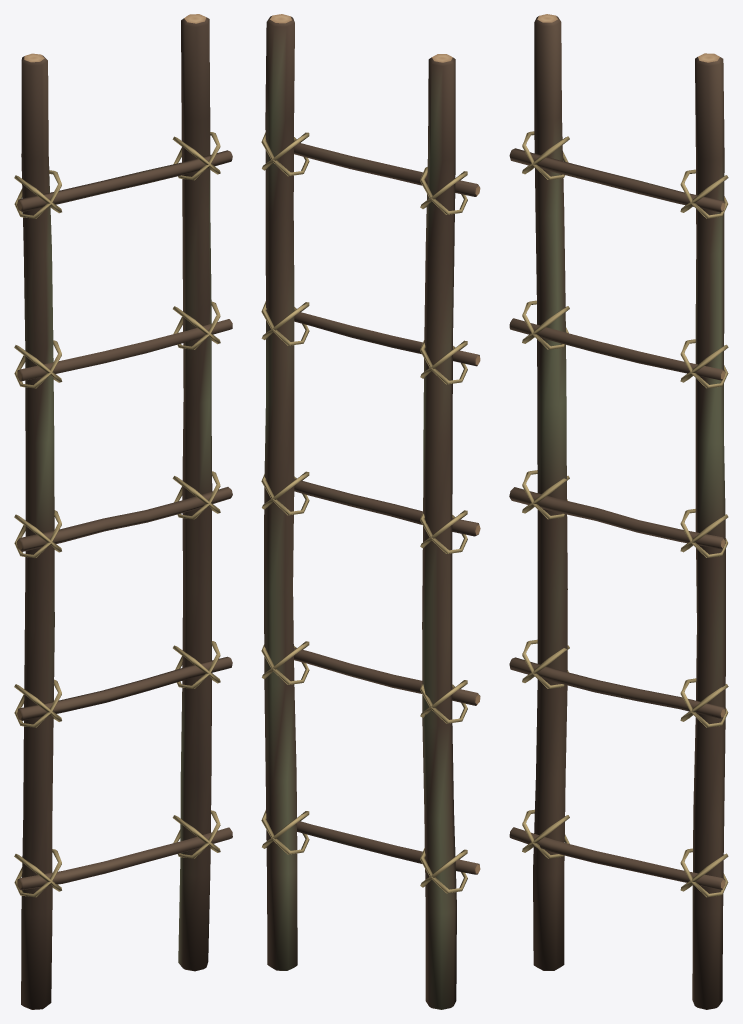
Rendered from ladder.glb.
3 renders of one model, left to right at view 1: azimuth 30°, elevation 25°; view 2: azimuth 150°, elevation 25°; view 3: azimuth 330°, elevation 25°, orthographic.
Parts seen in each view (by area): view 1: Part_01, Part_00, Part_07, Part_08, Part_04, Part_06, Part_03, Part_02, Part_05; view 2: Part_00, Part_01, Part_07, Part_08, Part_06, Part_04, Part_03, Part_05, Part_02; view 3: Part_01, Part_00, Part_07, Part_04, Part_06, Part_03, Part_08, Part_02, Part_05.
Boxes of the visible parts, x1=… form: Part_01: x1=178, y1=14, x2=212, y2=971; Part_00: x1=21, y1=53, x2=54, y2=1009; Part_07: x1=14, y1=471, x2=220, y2=897; Part_08: x1=14, y1=132, x2=220, y2=388; Part_04: x1=16, y1=487, x2=232, y2=551; Part_06: x1=17, y1=150, x2=232, y2=211; Part_03: x1=17, y1=656, x2=232, y2=720; Part_02: x1=17, y1=827, x2=232, y2=890; Part_05: x1=17, y1=319, x2=232, y2=381; Part_00: x1=422, y1=54, x2=456, y2=1009; Part_01: x1=264, y1=14, x2=297, y2=970; Part_07: x1=261, y1=471, x2=467, y2=893; Part_08: x1=261, y1=132, x2=467, y2=384; Part_06: x1=294, y1=142, x2=480, y2=196; Part_04: x1=294, y1=478, x2=480, y2=536; Part_03: x1=294, y1=647, x2=480, y2=705; Part_05: x1=294, y1=312, x2=480, y2=366; Part_02: x1=297, y1=821, x2=480, y2=874; Part_01: x1=692, y1=53, x2=725, y2=1009; Part_00: x1=533, y1=14, x2=567, y2=970; Part_07: x1=522, y1=470, x2=728, y2=897; Part_04: x1=509, y1=487, x2=725, y2=549; Part_06: x1=509, y1=148, x2=725, y2=212; Part_03: x1=509, y1=657, x2=725, y2=718; Part_08: x1=522, y1=131, x2=728, y2=388; Part_02: x1=509, y1=827, x2=725, y2=889; Part_05: x1=509, y1=318, x2=724, y2=380.
Size of the model in its own units: 0.587 by 2.51 by 0.1278.
